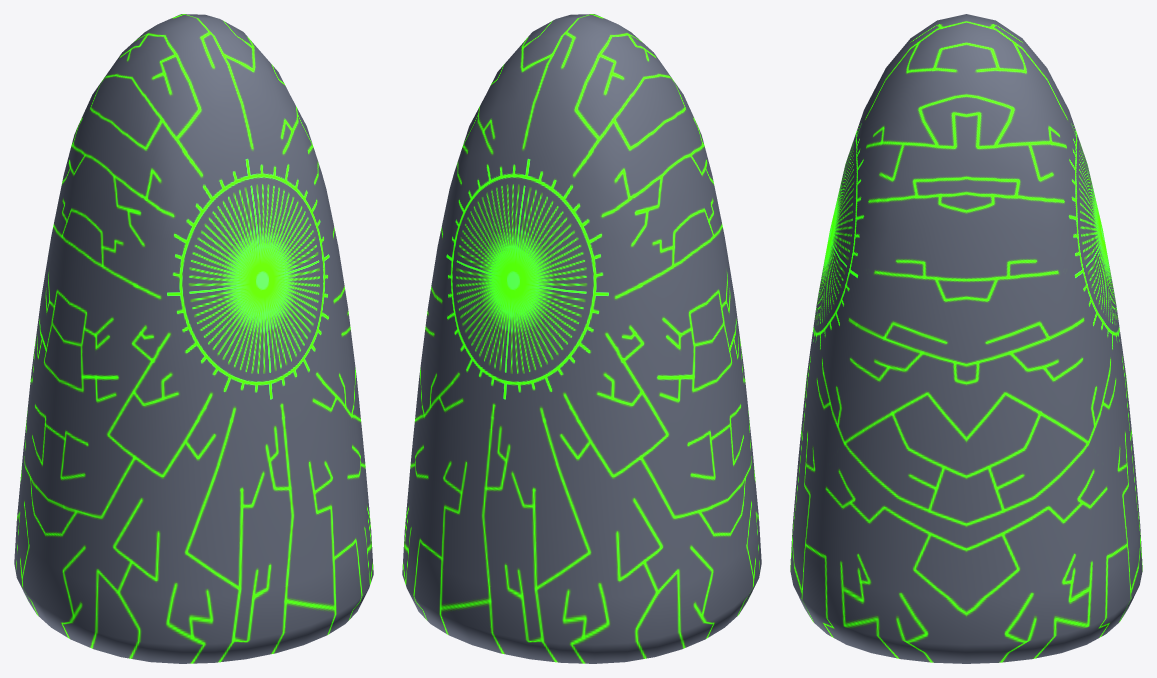
Rendered from Monolith.fbx.
The picture shows the model from 3 angles, left to right: view 1: azimuth 30°, elevation 25°; view 2: azimuth 150°, elevation 25°; view 3: azimuth 270°, elevation 25°; orthographic projection.
Parts seen in each view (by area): view 1: pCube5; view 2: pCube5; view 3: pCube5.
Boxes of the visible parts, x1=… form: pCube5: x1=14, y1=14, x2=373, y2=663; pCube5: x1=402, y1=14, x2=761, y2=663; pCube5: x1=790, y1=14, x2=1142, y2=663.
Size of the model in its own units: 29.1 by 56.24 by 29.09.
